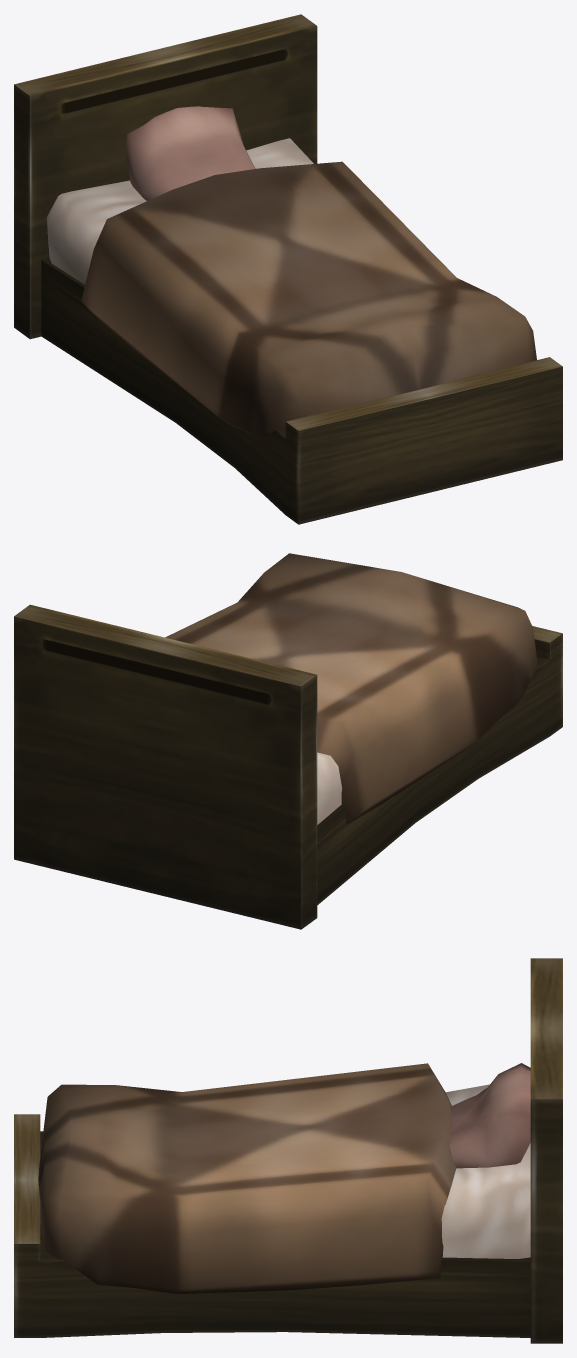
Rendered from ChicBed_HD.fbx.
3 views of the same model, one above another, from view 1: azimuth 30°, elevation 25°; view 2: azimuth 150°, elevation 25°; view 3: azimuth 270°, elevation 25° (orthographic).
Visible parts, largest first — view 1: ChicBed; view 2: ChicBed; view 3: ChicBed.
Part boxes in pixels (x1,y1,x2,y2): ChicBed: [14, 14, 562, 524]; ChicBed: [14, 553, 562, 929]; ChicBed: [14, 958, 562, 1343].
Size of the model in its own units: 1.19 by 0.9654 by 1.96.
